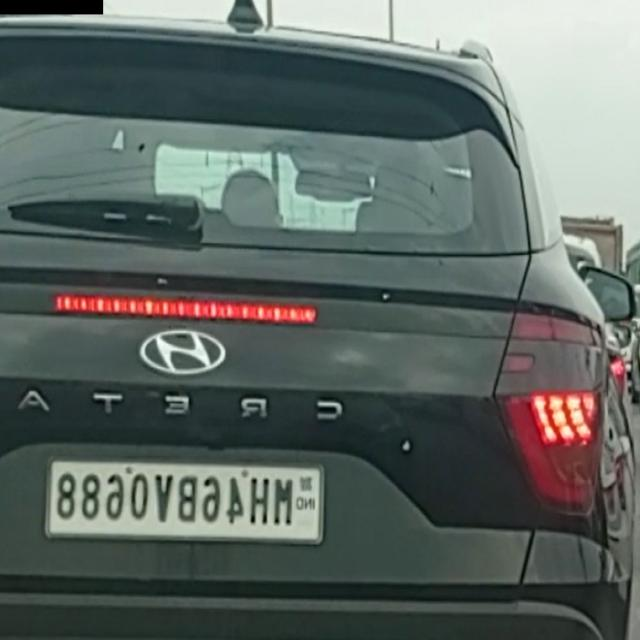license_plate: (41, 448, 332, 555)
